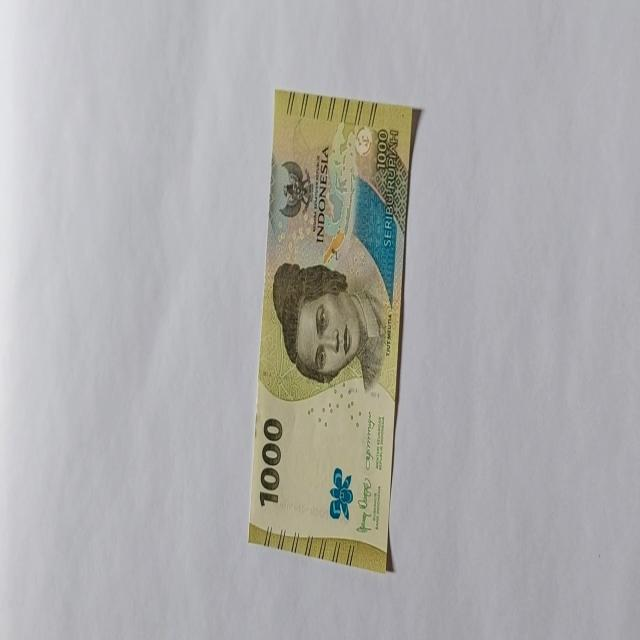seribu rupiah kertas: (246, 88, 422, 572)
